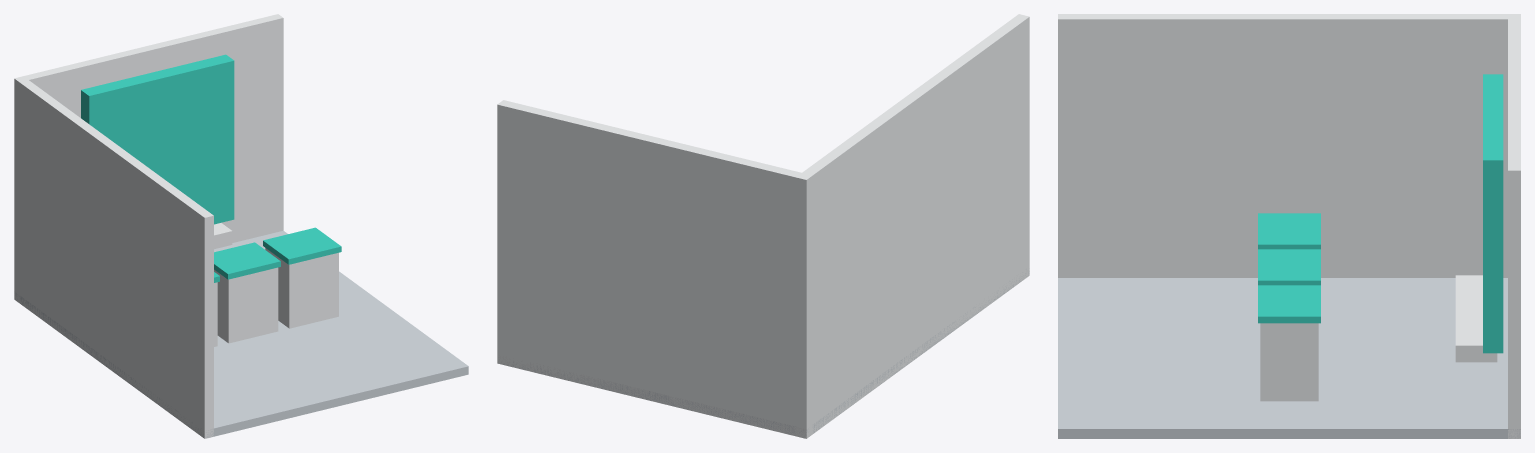
The picture shows the model from 3 angles, left to right: view 1: azimuth 30°, elevation 25°; view 2: azimuth 150°, elevation 25°; view 3: azimuth 270°, elevation 25°; orthographic projection. The views are drawn at different scales.
Parts seen in each view (by area): view 1: Exhibition Booth Concept; view 2: Exhibition Booth Concept; view 3: Exhibition Booth Concept.
Boxes of the visible parts, x1=… form: Exhibition Booth Concept: x1=14, y1=14, x2=468, y2=438; Exhibition Booth Concept: x1=497, y1=14, x2=1029, y2=438; Exhibition Booth Concept: x1=1058, y1=14, x2=1520, y2=438.
Size of the model in its own units: 4 by 3.2 by 5.
